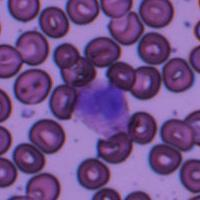N: (73, 80, 130, 137)
